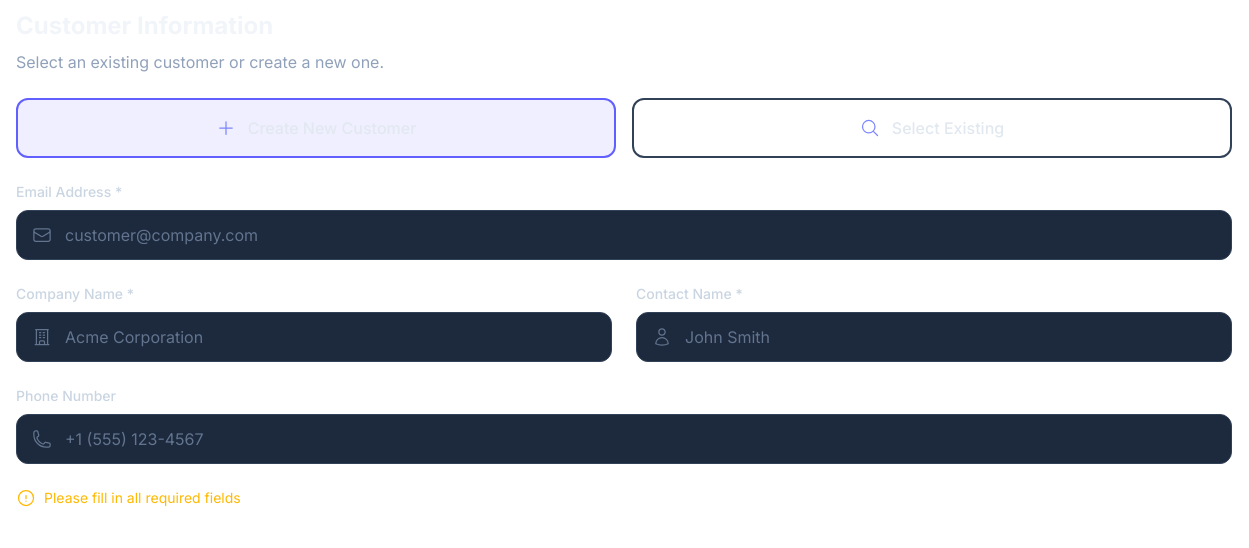
it: CustomerInfoStep › validates required fields
Click the field with test id "customer-email-input". click: coordinates (624, 235)
box: [16,210,1232,260]
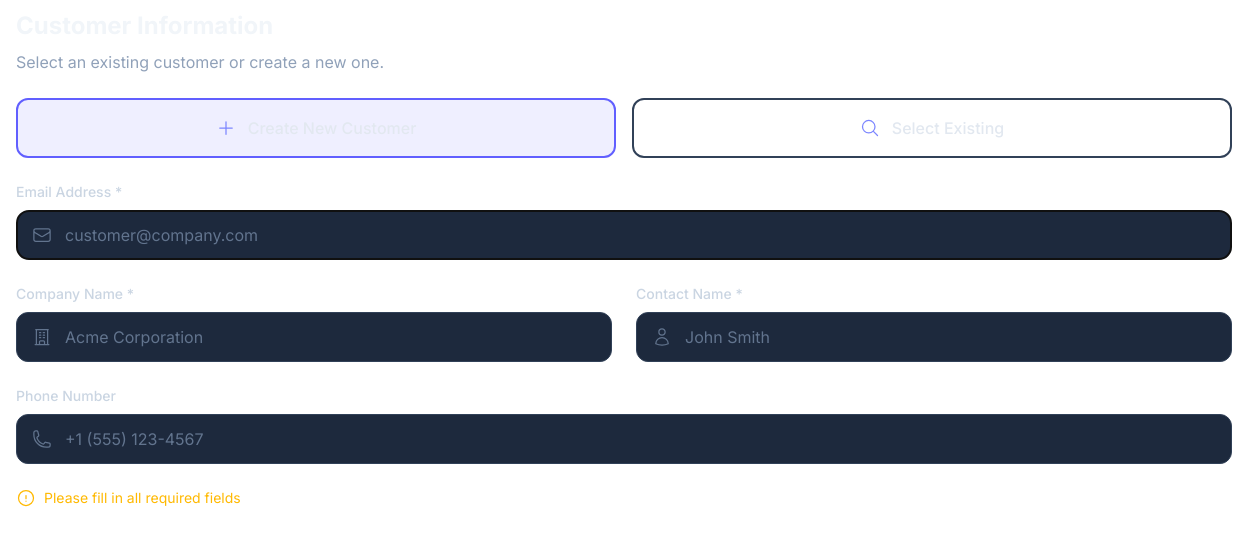
Press Tab
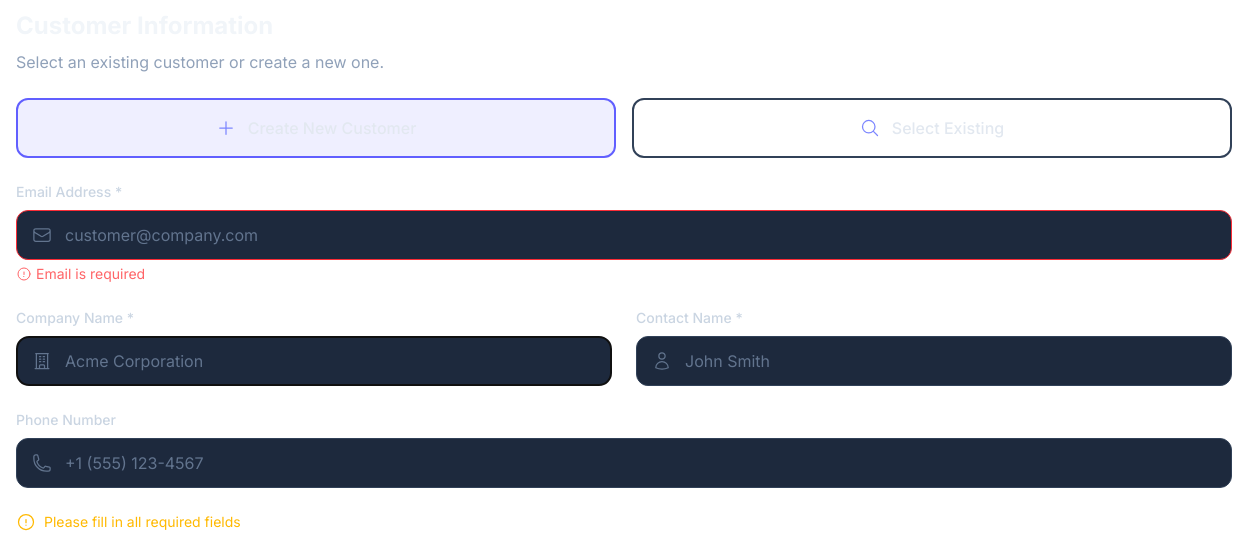
Check: the text "Email is required" is shown, box [16,265,145,282]
